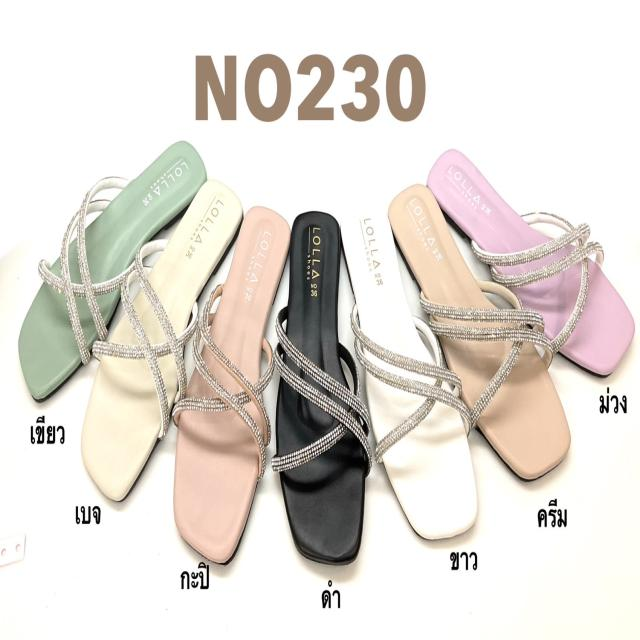bej: (80, 174, 239, 501)
black: (276, 208, 360, 564)
cream: (388, 188, 562, 482)
green: (15, 138, 202, 394)
kapi: (172, 210, 290, 562)
purple: (430, 152, 632, 373)
white: (340, 209, 479, 542)
